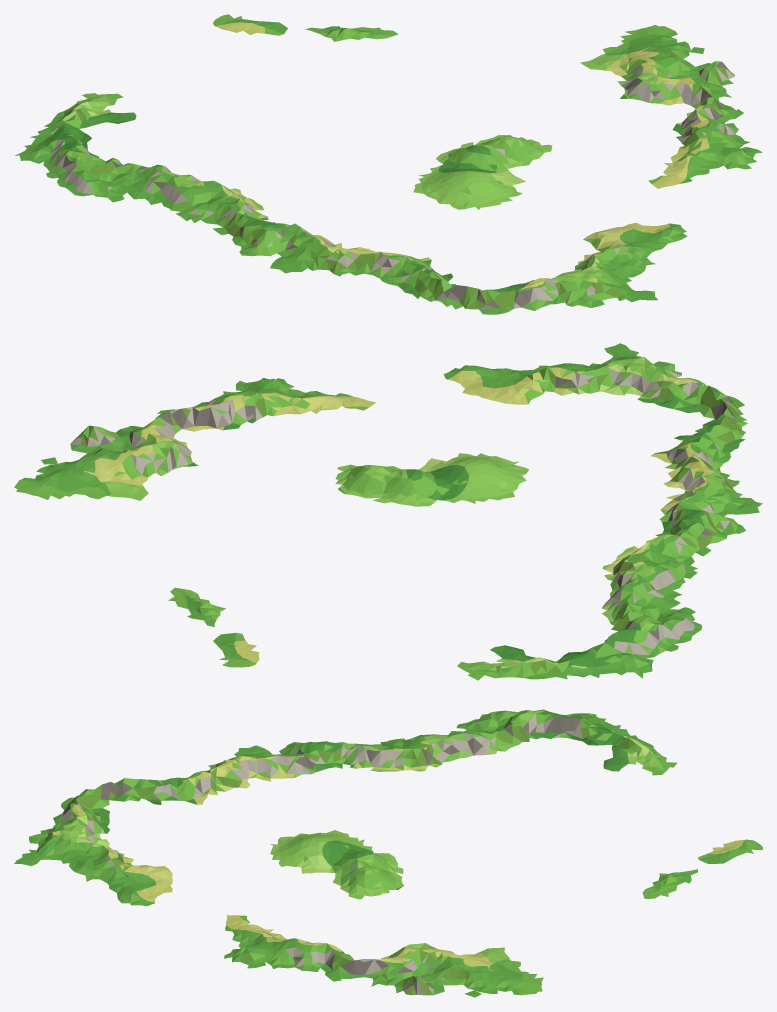
Rendered from Isl-flat2-Relief.fbx.
3 views of the same model, one above another, from view 1: azimuth 30°, elevation 25°; view 2: azimuth 150°, elevation 25°; view 3: azimuth 270°, elevation 25° (orthographic). The views are drawn at different scales.
Parts seen in each view (by area): view 1: Isl-flat2-Relief-c21, Isl-flat2-Relief-c11, Isl-flat2-Relief-c12, Isl-flat2-Relief-c22; view 2: Isl-flat2-Relief-c21, Isl-flat2-Relief-c11, Isl-flat2-Relief-c12, Isl-flat2-Relief-c22; view 3: Isl-flat2-Relief-c21, Isl-flat2-Relief-c11, Isl-flat2-Relief-c12, Isl-flat2-Relief-c22.
Boxes of the visible parts, left/top/right/bottom form: Isl-flat2-Relief-c21: left=418, top=61, right=762, bottom=307; Isl-flat2-Relief-c11: left=170, top=182, right=590, bottom=314; Isl-flat2-Relief-c12: left=15, top=93, right=239, bottom=208; Isl-flat2-Relief-c22: left=213, top=14, right=711, bottom=98; Isl-flat2-Relief-c21: left=90, top=343, right=674, bottom=506; Isl-flat2-Relief-c11: left=490, top=364, right=762, bottom=583; Isl-flat2-Relief-c12: left=457, top=557, right=701, bottom=680; Isl-flat2-Relief-c22: left=14, top=425, right=259, bottom=667; Isl-flat2-Relief-c21: left=14, top=824, right=421, bottom=995; Isl-flat2-Relief-c11: left=38, top=735, right=421, bottom=836; Isl-flat2-Relief-c12: left=417, top=709, right=677, bottom=775; Isl-flat2-Relief-c22: left=417, top=839, right=762, bottom=997.
Size of the model in its own units: 87.19 by 2.59 by 96.47.
